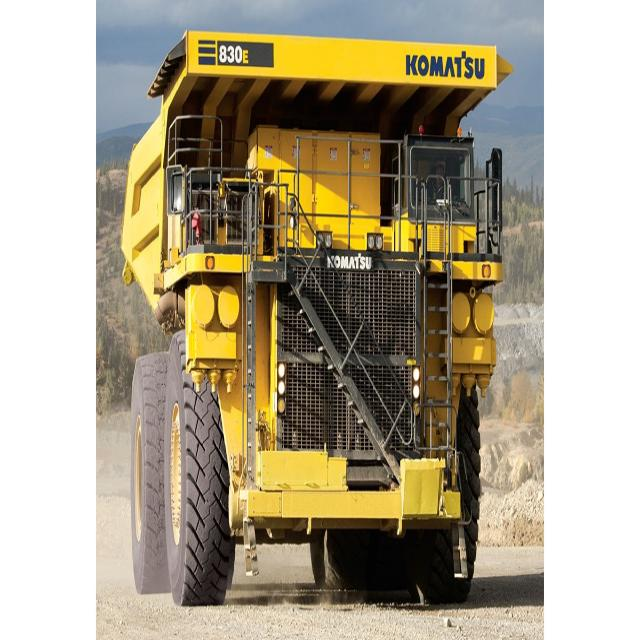dump_truck: (116, 19, 509, 610)
